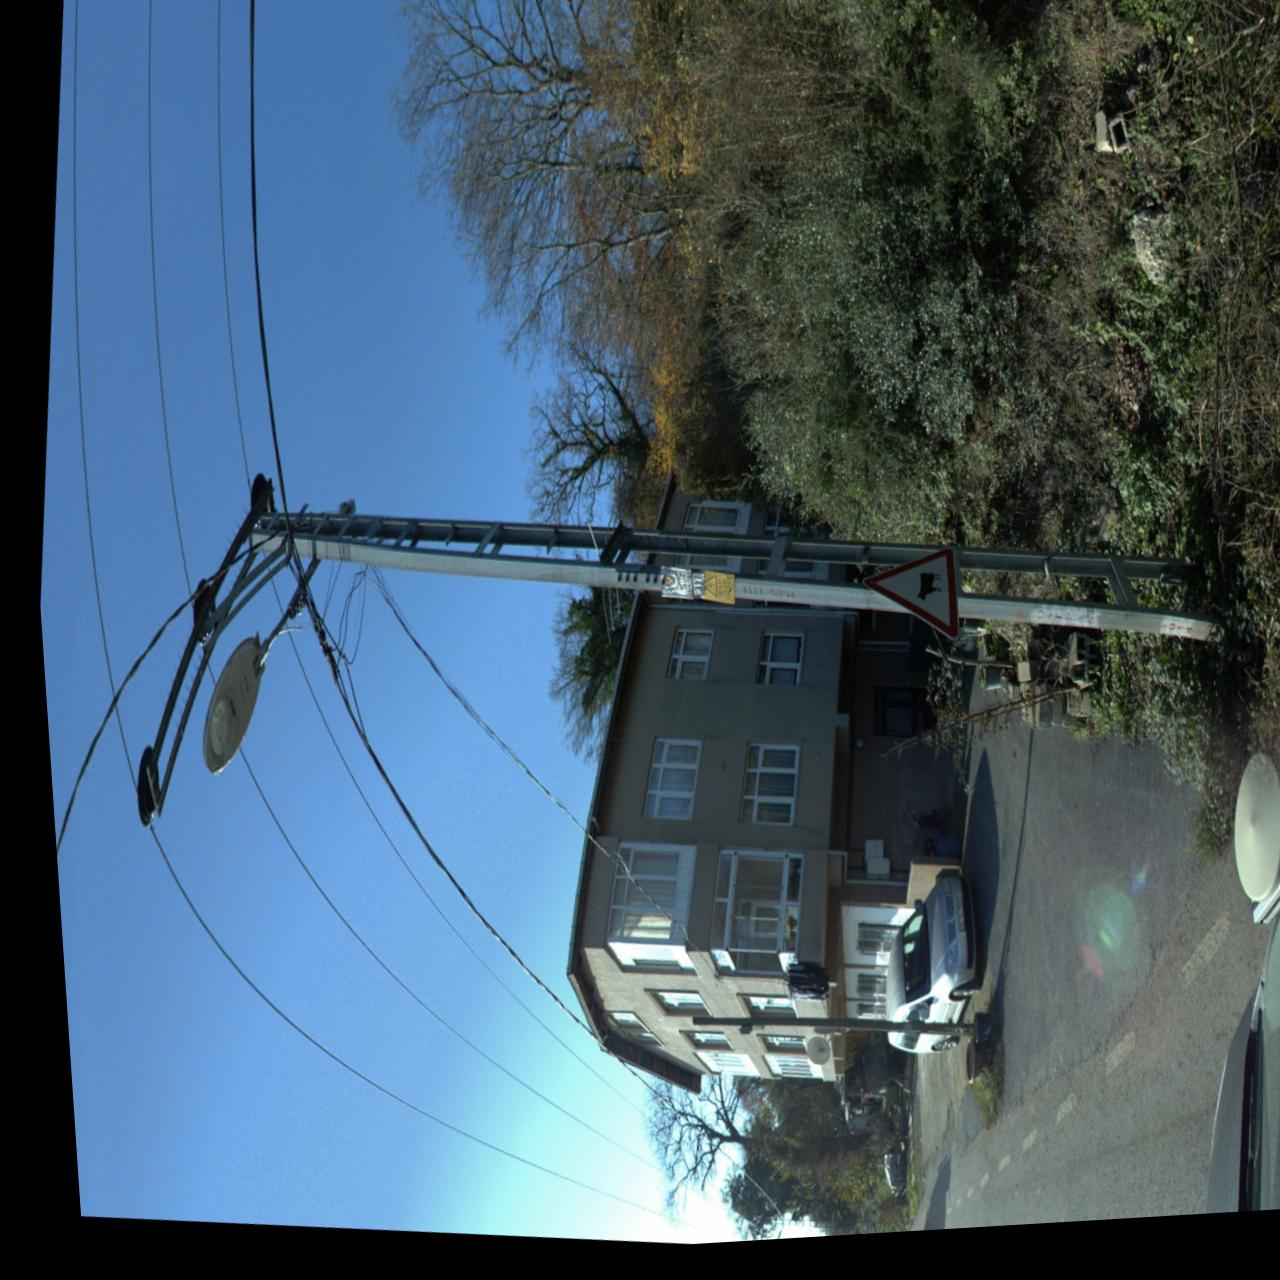Utility Pole Information Plate: (693, 577, 726, 614), (651, 573, 683, 607)
